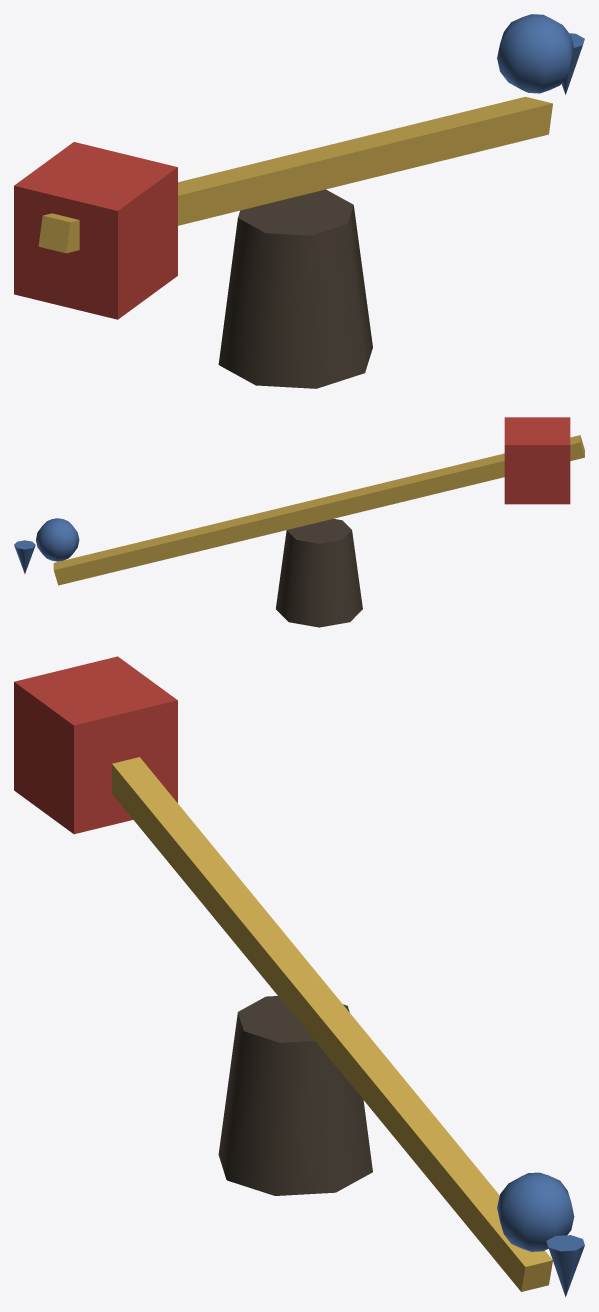
Rendered from lever.glb.
3 renders of one model, top to bottom at view 1: azimuth 30°, elevation 25°; view 2: azimuth 150°, elevation 25°; view 3: azimuth 270°, elevation 25°, orthographic. The views are drawn at different scales.
Bounding box in the file's own units: 2.29 × 0.9 × 1.43.
